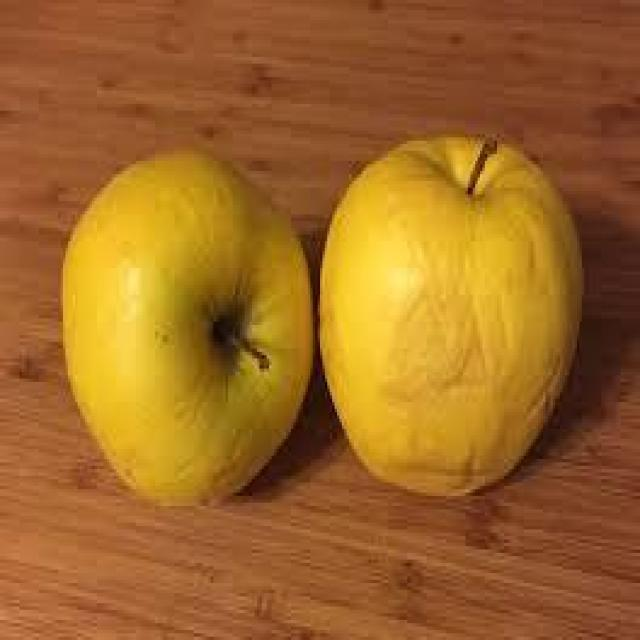maca: (315, 131, 584, 496), (58, 144, 313, 506)
